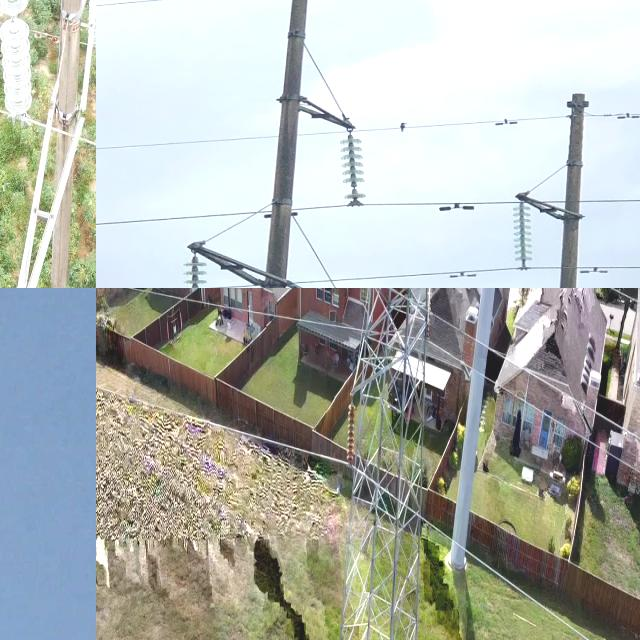杆塔: (324, 288, 432, 640), (0, 0, 96, 288)
正常绝缘子: (0, 0, 40, 139), (334, 125, 374, 214), (508, 194, 537, 272), (340, 391, 359, 482), (179, 246, 213, 288), (87, 0, 96, 54)
绝缘子破损: (7, 14, 18, 26), (349, 184, 358, 192)
